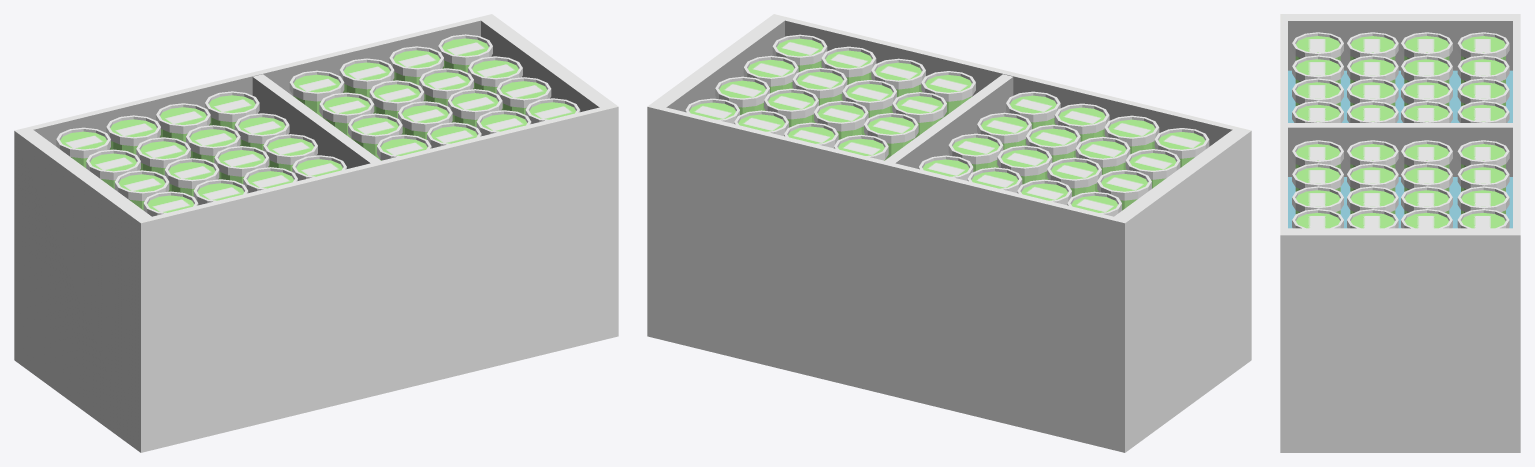
Rendered from mint_ice_cream_box.gltf.
3 views of the same model, side by side, from view 1: azimuth 30°, elevation 25°; view 2: azimuth 150°, elevation 25°; view 3: azimuth 270°, elevation 25° (orthographic). The views are drawn at different scales.
Visible parts, largest first — view 1: Cube.002; view 2: Cube.002; view 3: Cube.002.
Part boxes in pixels (x1,y1,x2,y2): Cube.002: [14, 14, 618, 452]; Cube.002: [647, 14, 1251, 452]; Cube.002: [1280, 14, 1520, 452].
Size of the model in its own units: 9.22 by 4.23 by 4.23.
Materials: 3 (3 with a texture image).
